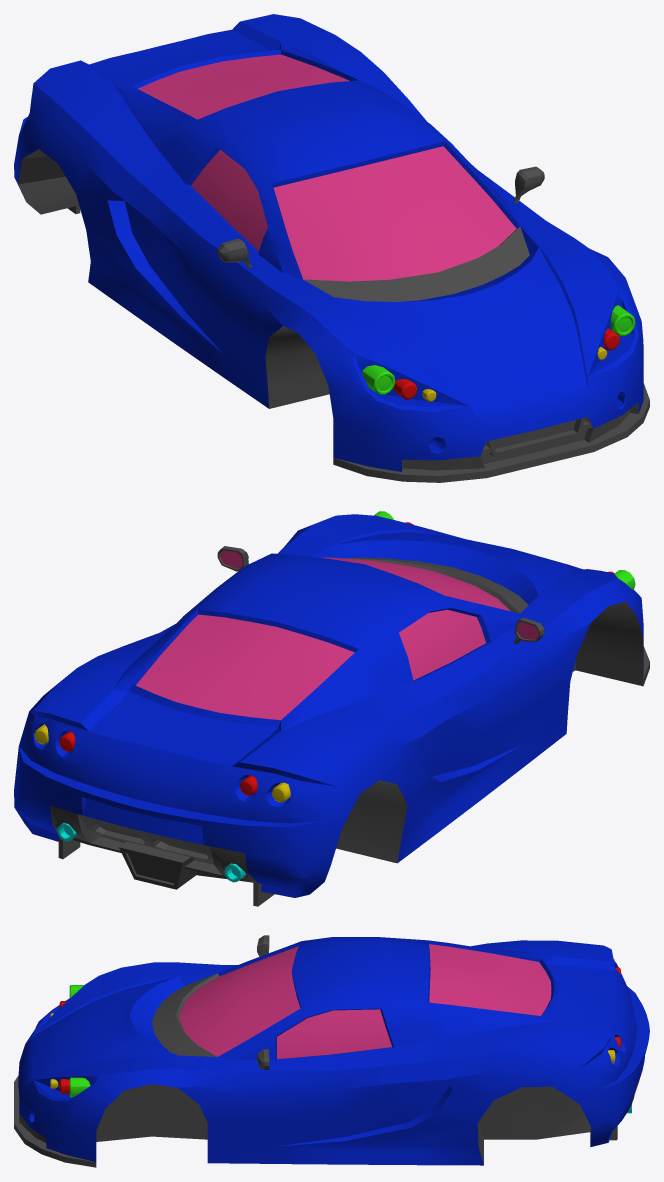
3 views of the same model, one above another, from view 1: azimuth 30°, elevation 25°; view 2: azimuth 150°, elevation 25°; view 3: azimuth 270°, elevation 25° (orthographic). The views are drawn at different scales.
Visible parts, largest first — view 1: C50; view 2: C50; view 3: C50.
Boxes of the visible parts, x1=… form: C50: x1=14, y1=14, x2=649, y2=482; C50: x1=14, y1=511, x2=649, y2=906; C50: x1=14, y1=935, x2=649, y2=1167.
Bounding box in the file's own units: 85.39 × 47.21 × 184.
